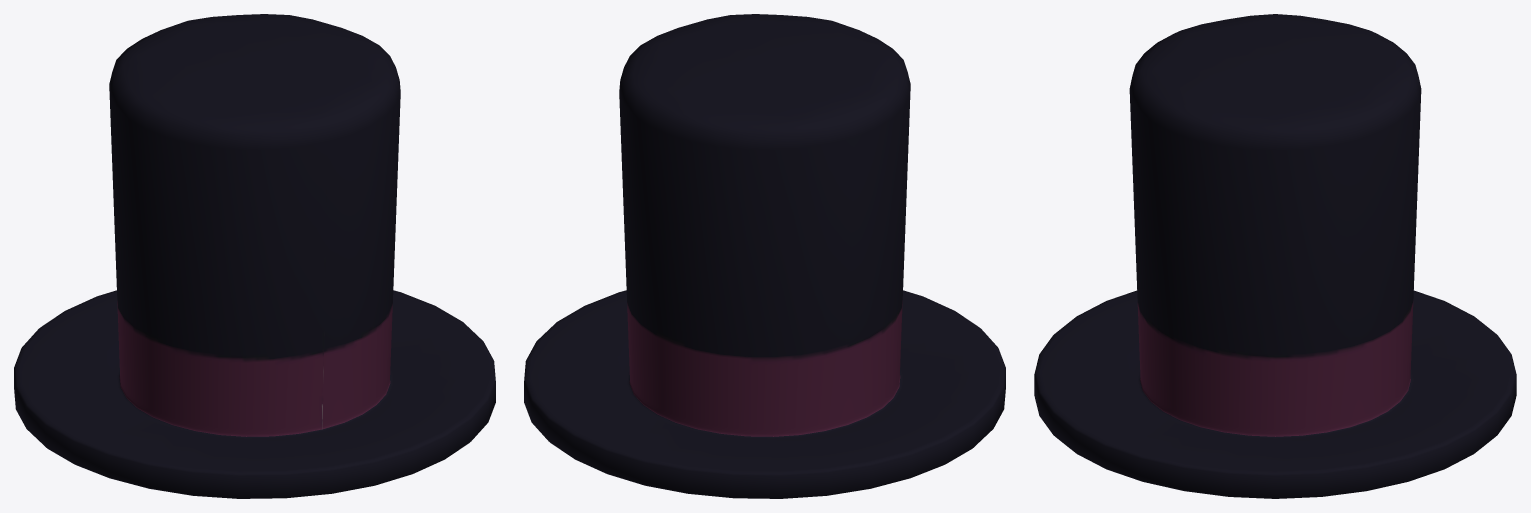
The model's file is magician_hat.glb.
The picture shows the model from 3 angles, left to right: view 1: azimuth 30°, elevation 25°; view 2: azimuth 150°, elevation 25°; view 3: azimuth 270°, elevation 25°; orthographic projection.
Parts seen in each view (by area): view 1: magician_hat; view 2: magician_hat; view 3: magician_hat.
Boxes of the visible parts, x1,y1,x2,y2 form: magician_hat: (14, 14, 495, 498); magician_hat: (524, 14, 1005, 498); magician_hat: (1034, 14, 1516, 498).
Size of the model in its own units: 0.5321 by 0.4146 by 0.5321.
1 material, 1 textured.
